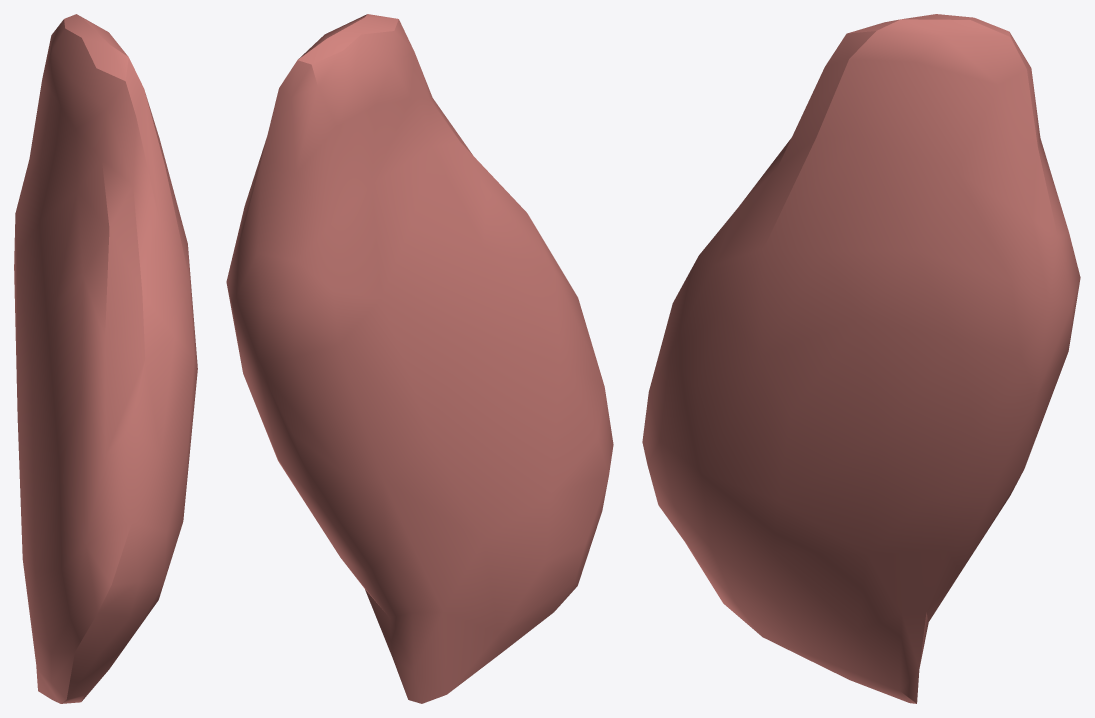
Rendered from fma81577_mm2381.glb.
3 views of the same model, side by side, from view 1: azimuth 30°, elevation 25°; view 2: azimuth 150°, elevation 25°; view 3: azimuth 270°, elevation 25° (orthographic). The views are drawn at different scales.
Parts seen in each view (by area): view 1: FMA81577_MM2381; view 2: FMA81577_MM2381; view 3: FMA81577_MM2381.
Part boxes in pixels (left/top/right/bottom): FMA81577_MM2381: left=14, top=14, right=197, bottom=703; FMA81577_MM2381: left=226, top=14, right=613, bottom=703; FMA81577_MM2381: left=642, top=14, right=1080, bottom=703.
Size of the model in its own units: 0.00771 by 0.0227 by 0.0126.
